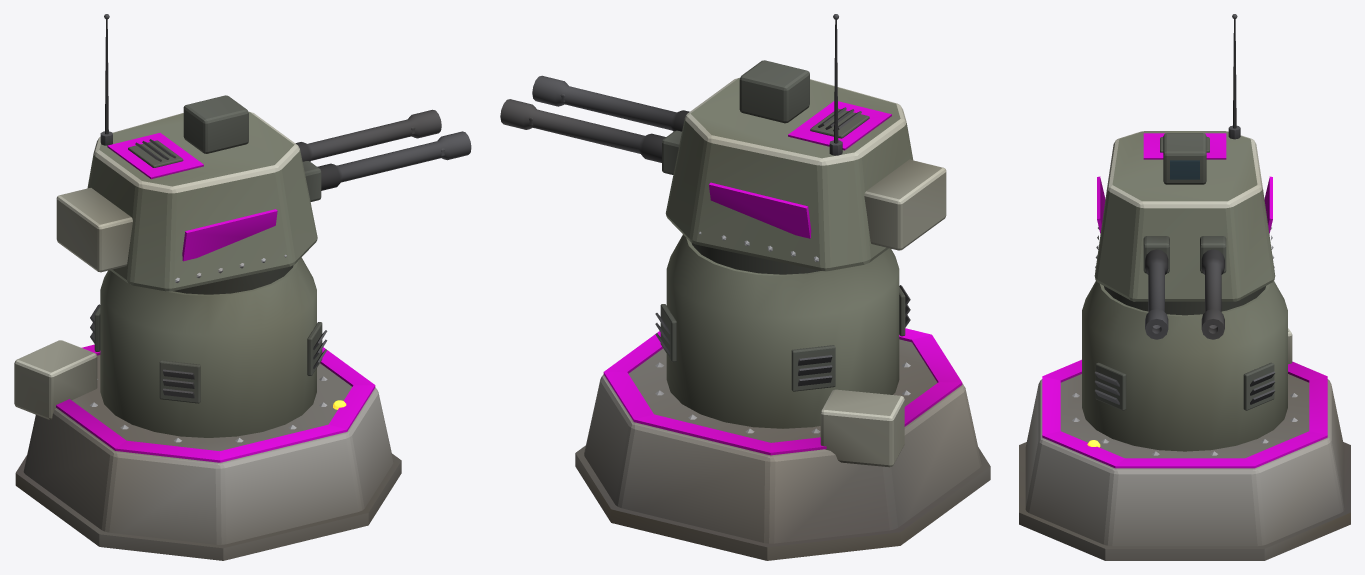
Rendered from gun_turret.glb.
The picture shows the model from 3 angles, left to right: view 1: azimuth 30°, elevation 25°; view 2: azimuth 150°, elevation 25°; view 3: azimuth 270°, elevation 25°; orthographic projection. The views are drawn at different scales.
Parts seen in each view (by area): view 1: Body, Turret, Barrel; view 2: Body, Turret, Barrel; view 3: Body, Turret, Barrel.
Boxes of the visible parts, x1=… form: Body: x1=14, y1=257, x2=401, y2=560; Turret: x1=56, y1=14, x2=321, y2=294; Barrel: x1=295, y1=109, x2=471, y2=190; Body: x1=575, y1=235, x2=990, y2=560; Turret: x1=662, y1=14, x2=946, y2=274; Barrel: x1=500, y1=75, x2=689, y2=162; Body: x1=1019, y1=281, x2=1350, y2=560; Turret: x1=1094, y1=14, x2=1275, y2=315; Barrel: x1=1145, y1=249, x2=1224, y2=339.
Size of the model in its own units: 2.6 by 2.94 by 2.
1 material, 1 textured.
